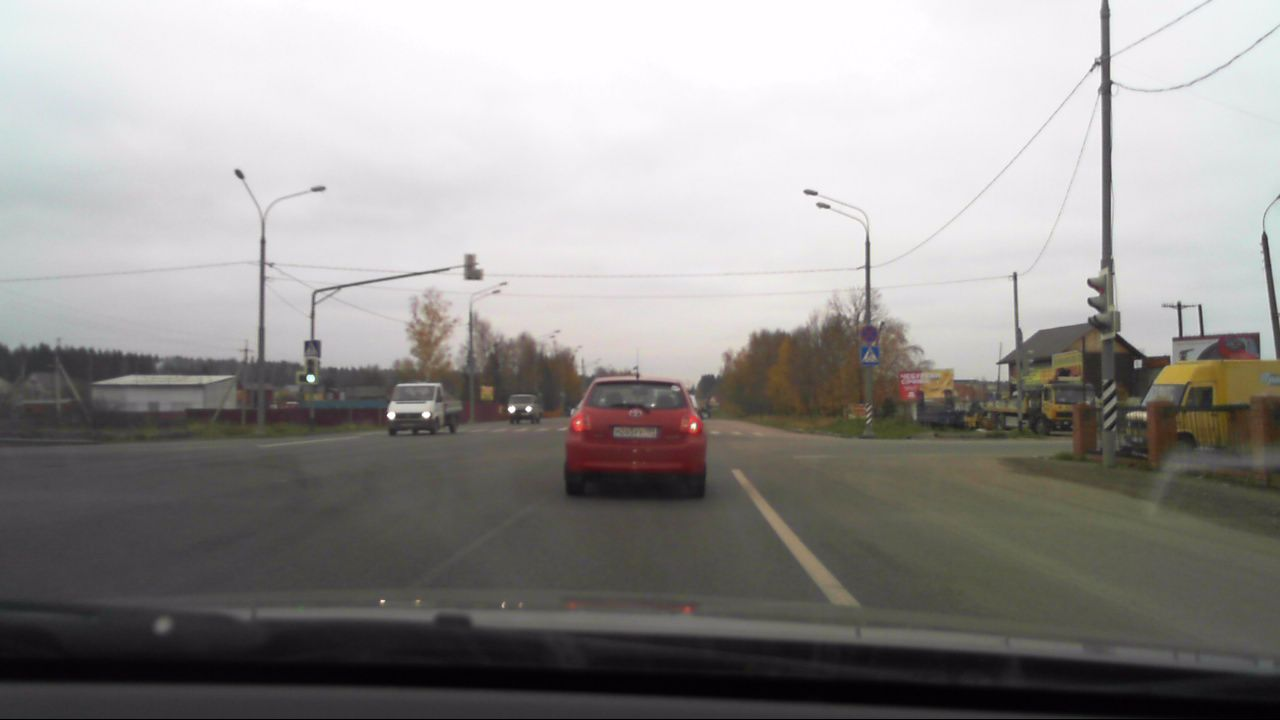No Parking: (860, 323, 878, 341)
